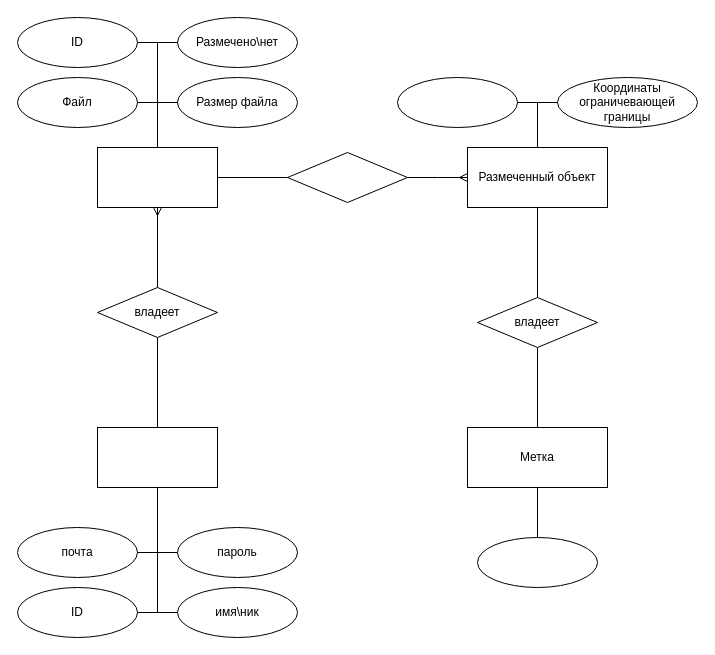
Some shapes in this 715 by 655 pixel diagram are drawn without their labels. The shapes that lost their labels are listed below. From the top down, each one's centre as x and y in pixels, then its label:
pixel 457 102: Название объекта
pixel 157 177: Изображение
pixel 347 177: имеет
pixel 157 457: Пользователь
pixel 537 562: Название
